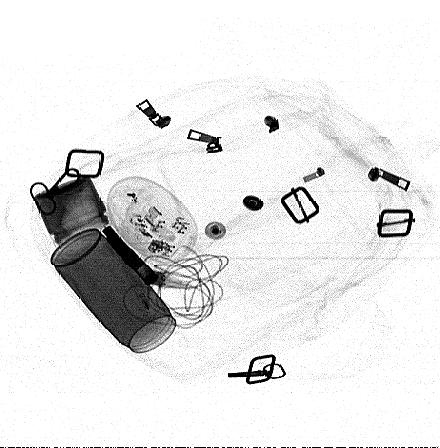Bullet: (103, 236, 160, 287)
